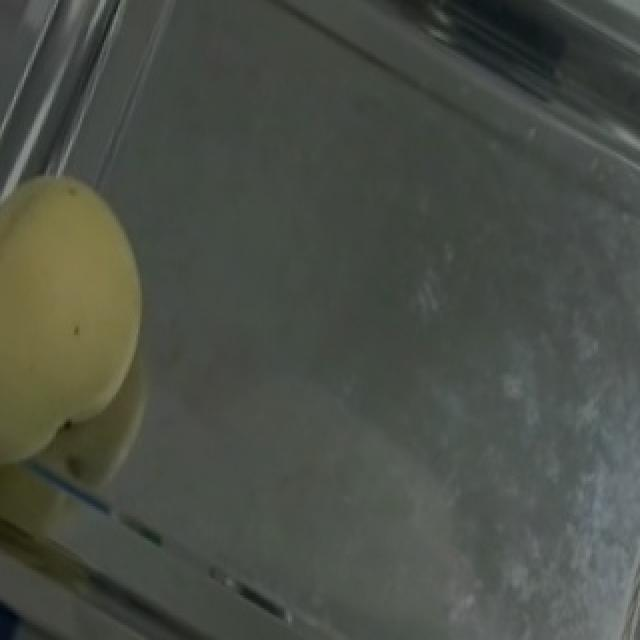Fruit: (2, 136, 190, 482)
